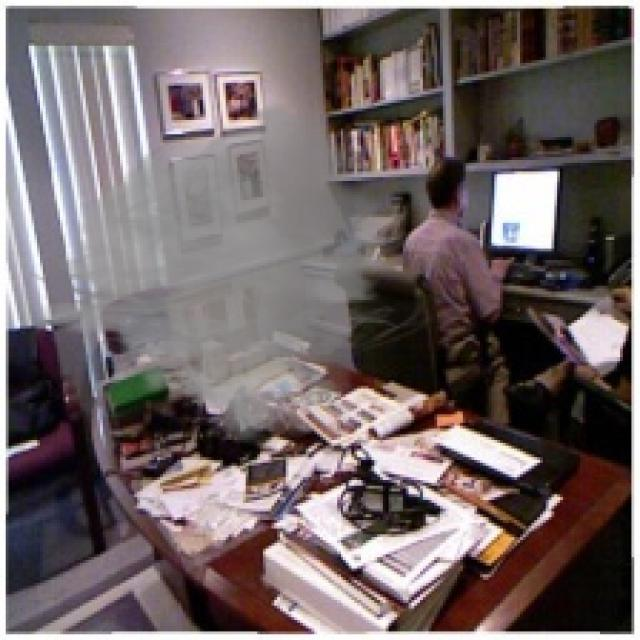smoke: (23, 103, 443, 446)
